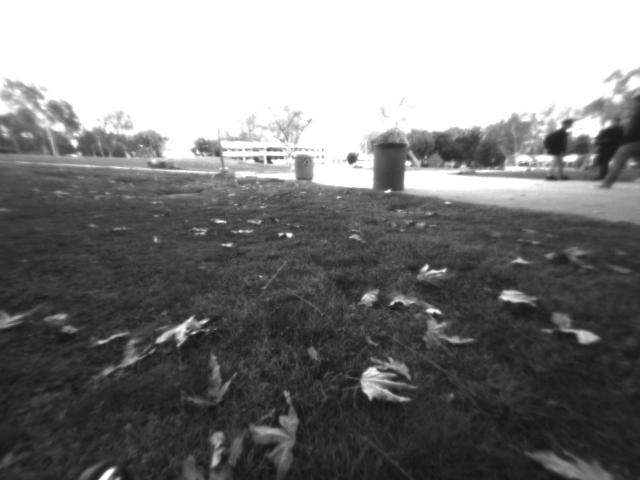trashcan: (373, 139, 406, 196), (295, 151, 317, 182)
